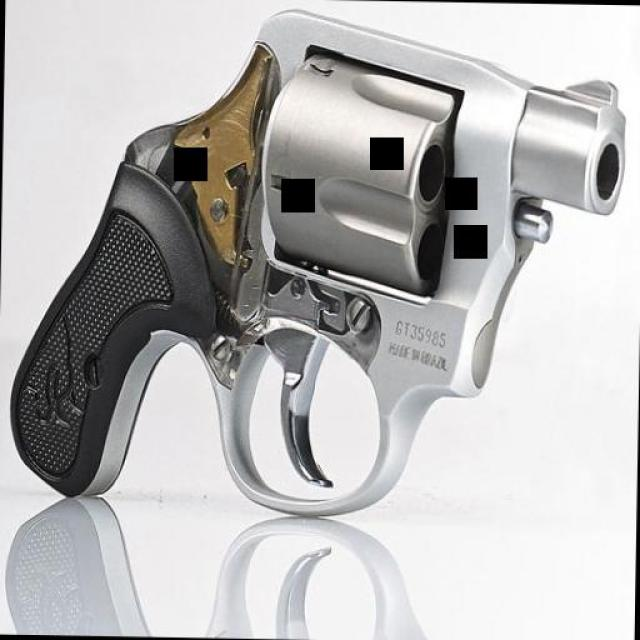gun: (4, 4, 634, 521)
